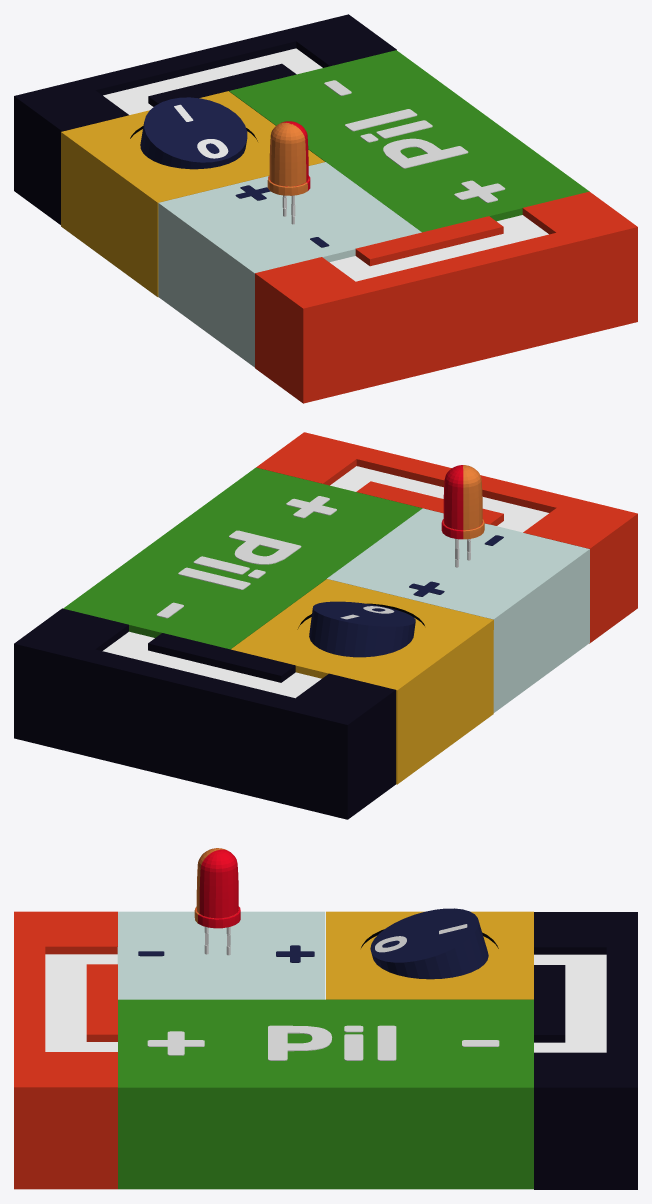
Rendered from model-1765118668548-animasyon.glb.
The picture shows the model from 3 angles, top to bottom: view 1: azimuth 30°, elevation 25°; view 2: azimuth 150°, elevation 25°; view 3: azimuth 270°, elevation 25°; orthographic projection. The views are drawn at different scales.
Parts seen in each view (by area): view 1: Seri++, Pil.001, Led.004, Seri--, Button.003, ONOFF, PilText.001, imagetostl_mesh_mat11_0.010; view 2: Seri--, Pil.001, Led.004, Button.003, Seri++, ONOFF, PilText.001, imagetostl_mesh_mat11_0.009, imagetostl_mesh_mat11_0.010; view 3: Pil.001, Seri++, Seri--, Led.004, Button.003, ONOFF, PilText.001, imagetostl_mesh_mat11_0.009.
Part boxes in pixels (x1,y1,x2,y2): Seri++: (255, 191, 637, 403); Pil.001: (229, 50, 589, 232); Led.004: (158, 162, 421, 367); Seri--: (14, 14, 396, 224); Button.003: (61, 91, 324, 297); ONOFF: (140, 97, 247, 169); PilText.001: (324, 80, 505, 202); imagetostl_mesh_mat11_0.010: (267, 122, 308, 224); Seri--: (14, 608, 395, 819); Pil.001: (63, 467, 422, 649); Led.004: (327, 508, 589, 712); Button.003: (231, 579, 493, 784); Seri++: (256, 432, 637, 643); ONOFF: (309, 601, 415, 657); PilText.001: (156, 496, 336, 618); imagetostl_mesh_mat11_0.009: (441, 465, 482, 567); imagetostl_mesh_mat11_0.010: (443, 465, 484, 567); Pil.001: (118, 999, 533, 1189); Seri++: (14, 911, 117, 1189); Seri--: (534, 912, 637, 1189); Led.004: (117, 911, 325, 999); Button.003: (326, 911, 533, 999); ONOFF: (370, 908, 488, 979); PilText.001: (147, 1025, 499, 1060); imagetostl_mesh_mat11_0.009: (196, 849, 240, 955).
Bounding box in the file's own units: 0.5018 × 0.273 × 0.7501.
